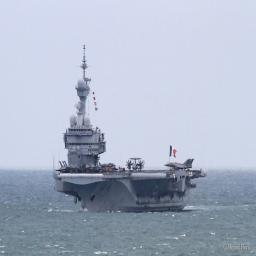Portanaves: (54, 42, 206, 218)
